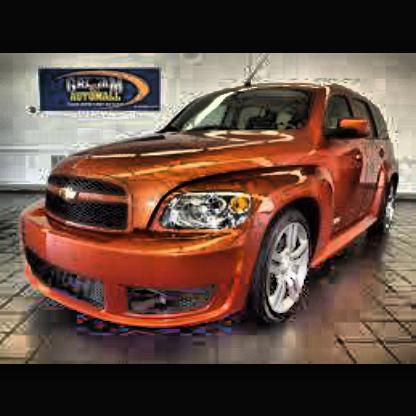Chevrolet HHR SS 2010: (22, 81, 402, 333)
